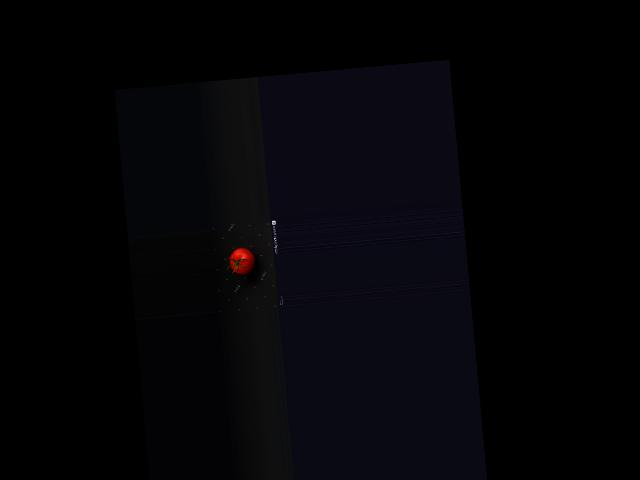tomato: (228, 247, 255, 276)
